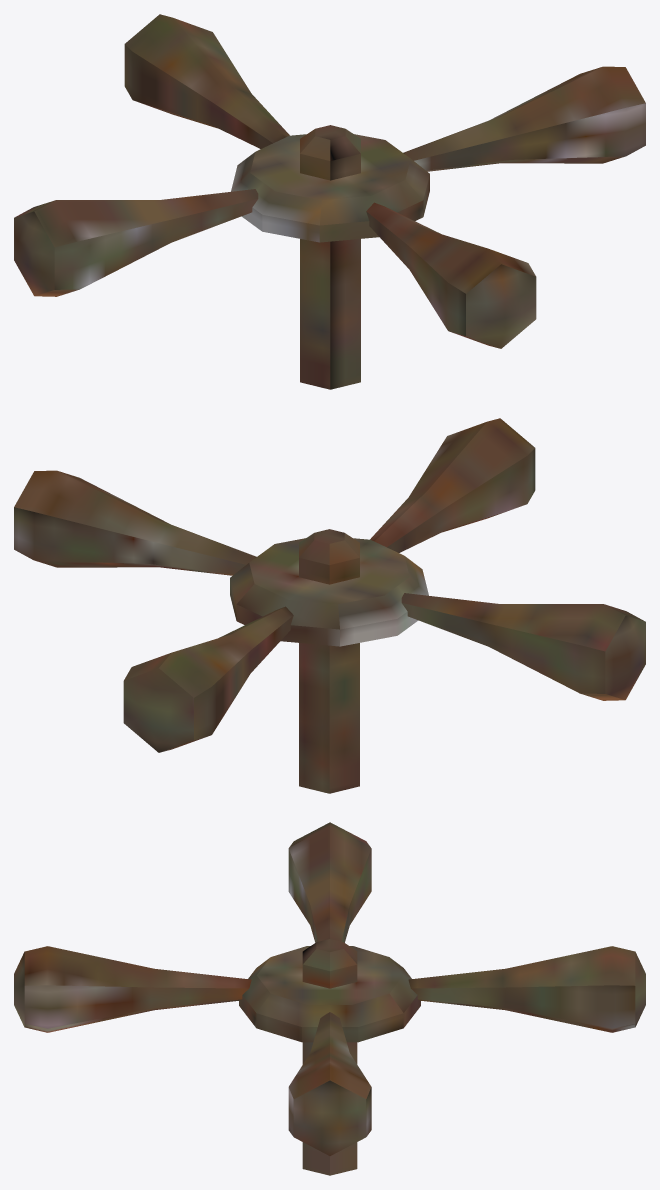
File: Pipe_Set_3_8.glb
3 renders of one model, top to bottom at view 1: azimuth 30°, elevation 25°; view 2: azimuth 150°, elevation 25°; view 3: azimuth 270°, elevation 25°, orthographic. The views are drawn at different scales.
Parts seen in each view (by area): view 1: Pipe_Set_3_8; view 2: Pipe_Set_3_8; view 3: Pipe_Set_3_8.
Part boxes in pixels (x1,y1,x2,y2): Pipe_Set_3_8: (14,14,645,389); Pipe_Set_3_8: (14,418,645,793); Pipe_Set_3_8: (14,822,645,1175).
Size of the model in its own units: 0.1162 by 0.044 by 0.1162.
1 material, 1 textured.
